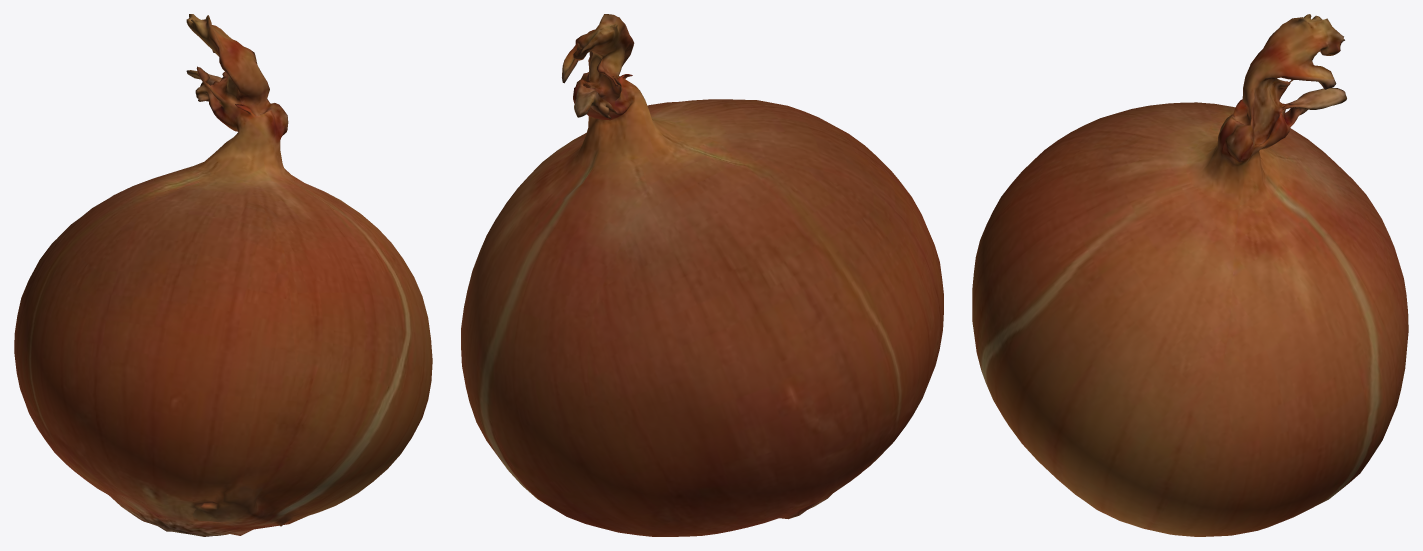
The model's file is yellow_onion.glb.
The picture shows the model from 3 angles, left to right: view 1: azimuth 30°, elevation 25°; view 2: azimuth 150°, elevation 25°; view 3: azimuth 270°, elevation 25°; orthographic projection. The views are drawn at different scales.
Parts seen in each view (by area): view 1: yellow_onion; view 2: yellow_onion; view 3: yellow_onion.
Part boxes in pixels (x1,y1,x2,y2): yellow_onion: (14,14,432,536); yellow_onion: (461,14,943,536); yellow_onion: (972,14,1408,536).
Bounding box in the file's own units: 0.0725 × 0.0864 × 0.0686.
Materials: 1 (1 with a texture image).
